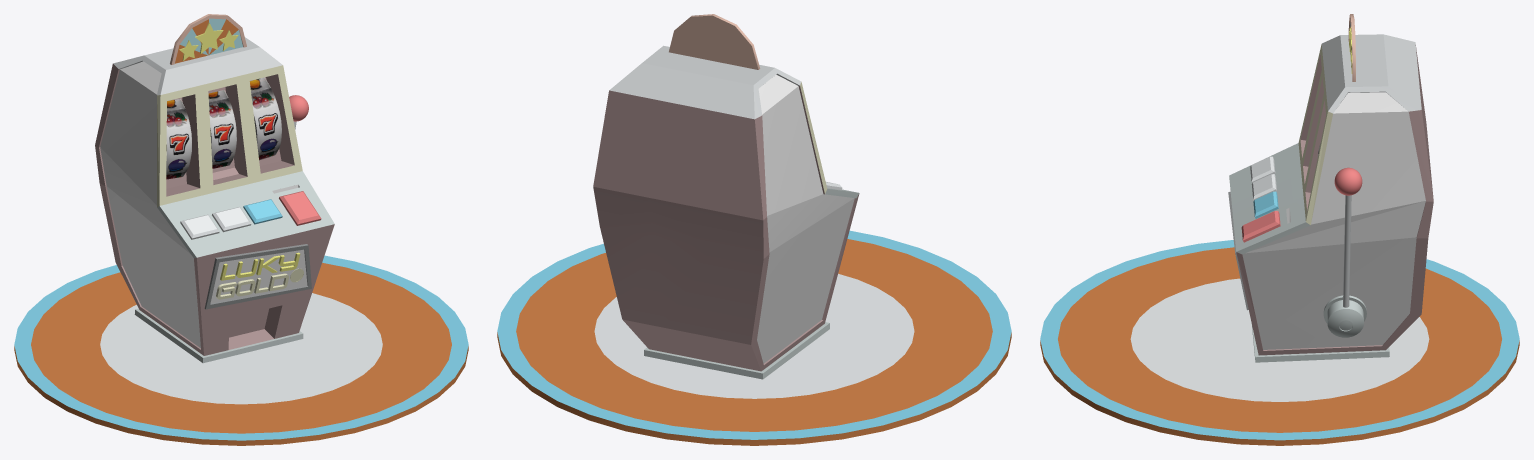
Rendered from slot-machine-tutpad.fbx.
The picture shows the model from 3 angles, left to right: view 1: azimuth 30°, elevation 25°; view 2: azimuth 150°, elevation 25°; view 3: azimuth 270°, elevation 25°; orthographic projection. The views are drawn at different scales.
Parts seen in each view (by area): view 1: Cylinder_6_Mat.1_0, Cylinder_6_Mat.1_0_0, Cube_2_Mat_0, Cube_2_Mat.1_0, Cylinder_6_Mat.1_0_1, Cube_2_Mat.1_0_1, Cube_2_Mat.1_0_2, Cube_2_Mat.1_0_0, Cube_1_Mat_0, Cylinder_2_Mat.2_0, Cylinder_2_2_Mat.2_0, Cylinder_Mat.2_0 (+10 smaller); view 2: Cube_2_Mat.1_0, Cylinder_6_Mat.1_0, Cube_2_Mat_0, Cylinder_6_Mat.1_0_0, Cylinder_6_Mat.1_0_1, Cube_2_Mat.1_0_0, Cylinder_2_3_Mat.1_0, Cube_2_Mat.1_0_1; view 3: Cylinder_6_Mat.1_0, Cube_2_Mat_0, Cylinder_6_Mat.1_0_0, Cylinder_6_Mat.1_0_1, Cube_2_Mat.1_0, Cube_2_Mat.1_0_0, Cube_2_Mat.1_0_1, Cube_2_Mat.1_0_2, Oil_Tank_Mat.1_0, Cylinder_4_Mat.1_0, Cube_2_2_Mat.1_0, Sphere_Mat.1_0 (+1 smaller).
Boxes of the visible parts, x1=… form: Cylinder_6_Mat.1_0: x1=14, y1=262, x2=468, y2=445; Cylinder_6_Mat.1_0_0: x1=100, y1=293, x2=382, y2=404; Cube_2_Mat_0: x1=100, y1=61, x2=200, y2=347; Cube_2_Mat.1_0: x1=95, y1=64, x2=334, y2=355; Cylinder_6_Mat.1_0_1: x1=14, y1=255, x2=468, y2=440; Cube_2_Mat.1_0_1: x1=134, y1=171, x2=334, y2=363; Cube_2_Mat.1_0_2: x1=157, y1=65, x2=302, y2=207; Cube_2_Mat.1_0_0: x1=113, y1=37, x2=282, y2=95; Cube_1_Mat_0: x1=210, y1=249, x2=307, y2=303; Cylinder_2_Mat.2_0: x1=250, y1=77, x2=281, y2=160; Cylinder_2_2_Mat.2_0: x1=208, y1=90, x2=236, y2=168; Cylinder_Mat.2_0: x1=166, y1=98, x2=191, y2=179; Cube_2_Mat.1_0: x1=593, y1=85, x2=859, y2=371; Cylinder_6_Mat.1_0: x1=497, y1=239, x2=1011, y2=445; Cube_2_Mat_0: x1=757, y1=74, x2=854, y2=363; Cylinder_6_Mat.1_0_0: x1=594, y1=273, x2=914, y2=398; Cylinder_6_Mat.1_0_1: x1=497, y1=230, x2=1011, y2=439; Cube_2_Mat.1_0_0: x1=609, y1=45, x2=801, y2=119; Cylinder_2_3_Mat.1_0: x1=669, y1=14, x2=760, y2=69; Cube_2_Mat.1_0_1: x1=644, y1=188, x2=859, y2=379; Cylinder_6_Mat.1_0: x1=1040, y1=247, x2=1519, y2=445; Cube_2_Mat_0: x1=1242, y1=92, x2=1425, y2=349; Cylinder_6_Mat.1_0_0: x1=1130, y1=278, x2=1429, y2=401; Cylinder_6_Mat.1_0_1: x1=1040, y1=240, x2=1519, y2=440; Cube_2_Mat.1_0: x1=1236, y1=45, x2=1433, y2=355; Cube_2_Mat.1_0_0: x1=1321, y1=34, x2=1421, y2=113; Cube_2_Mat.1_0_1: x1=1229, y1=143, x2=1389, y2=362; Cube_2_Mat.1_0_2: x1=1298, y1=44, x2=1332, y2=224; Oil_Tank_Mat.1_0: x1=1323, y1=295, x2=1366, y2=337; Cylinder_4_Mat.1_0: x1=1343, y1=195, x2=1351, y2=307; Cube_2_2_Mat.1_0: x1=1241, y1=211, x2=1280, y2=242; Sphere_Mat.1_0: x1=1334, y1=167, x2=1362, y2=195.
Bounding box in the file's own units: 63367 × 47658 × 63367.
